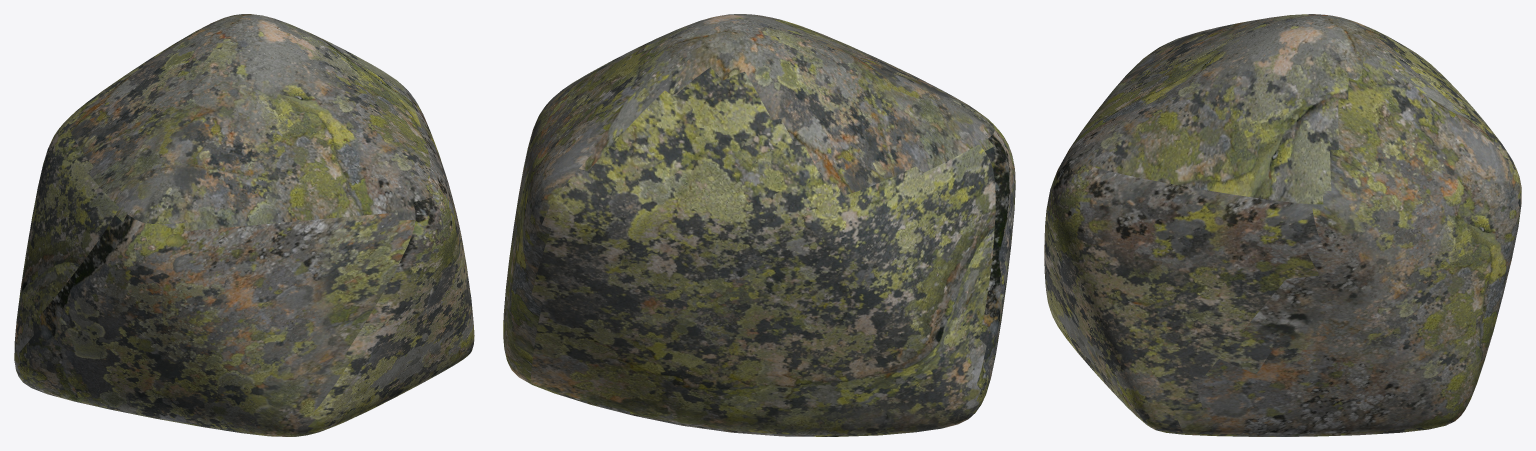
File: rocks_03.glb
3 views of the same model, side by side, from view 1: azimuth 30°, elevation 25°; view 2: azimuth 150°, elevation 25°; view 3: azimuth 270°, elevation 25° (orthographic). The views are drawn at different scales.
Parts seen in each view (by area): view 1: Rock1_Rock_0; view 2: Rock1_Rock_0; view 3: Rock1_Rock_0.
Part boxes in pixels (left/top/right/bottom): Rock1_Rock_0: left=14, top=14, right=474, bottom=436; Rock1_Rock_0: left=503, top=14, right=1015, bottom=436; Rock1_Rock_0: left=1044, top=14, right=1521, bottom=436.
Size of the model in its own units: 0.4084 by 0.3389 by 0.3976.
1 material, 1 textured.
